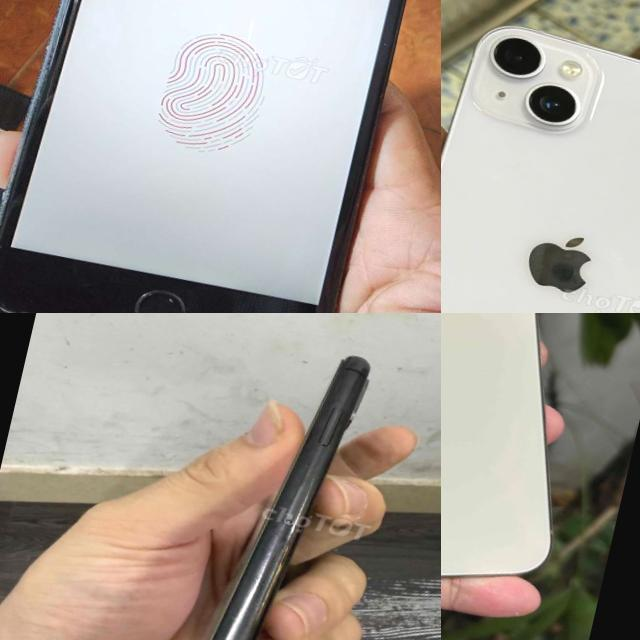gen_14: (441, 313, 640, 636), (441, 0, 640, 313)
gen_7_8: (0, 0, 406, 313)
gen_x_xs: (201, 356, 369, 640)
